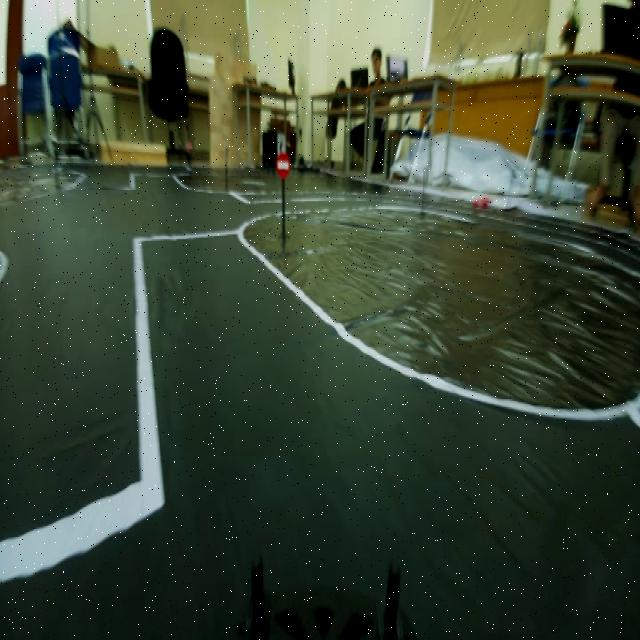no_entry: (270, 146, 294, 184)
